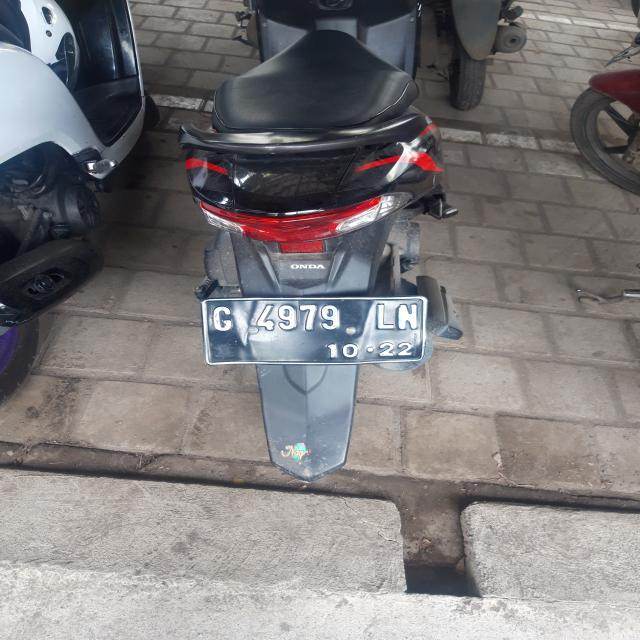plate: (203, 299, 428, 367)
